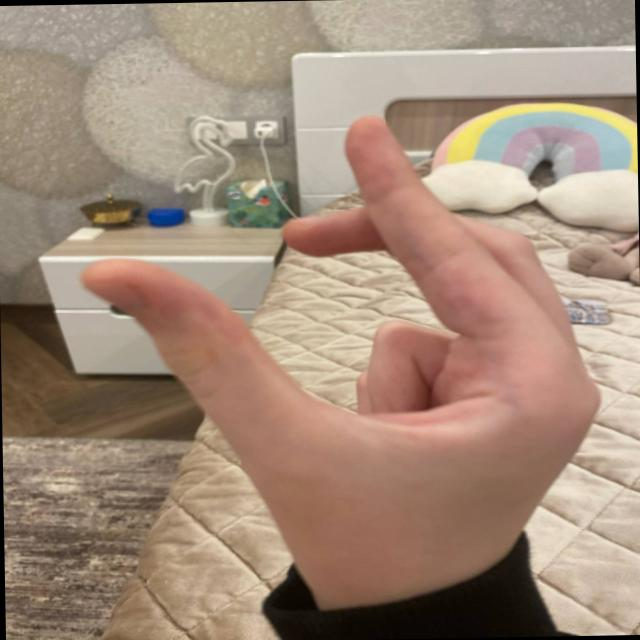b: (87, 84, 557, 546)
